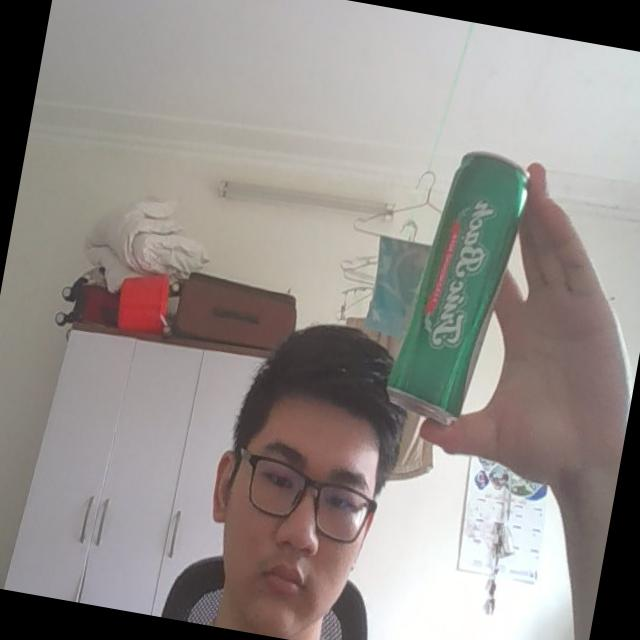Bia-Truc-Bach: (380, 136, 536, 434)
